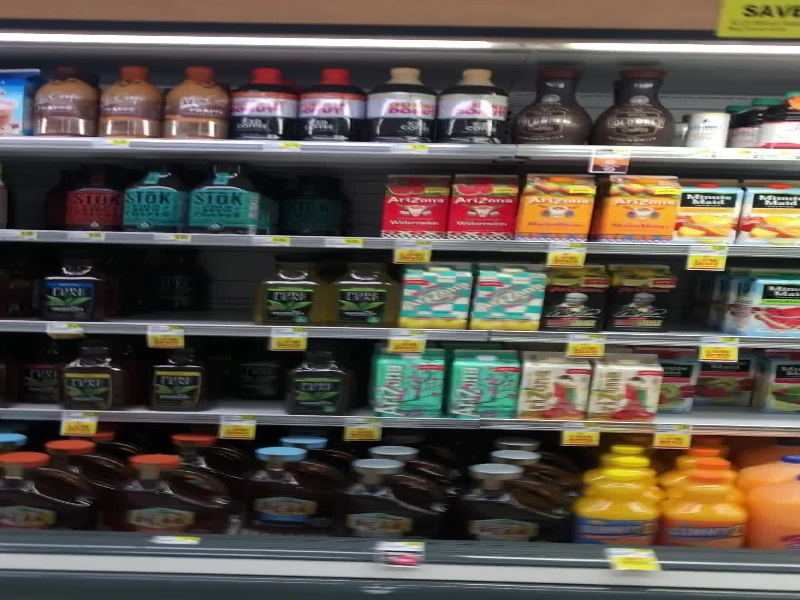void: (266, 148, 388, 238), (124, 248, 251, 324)
